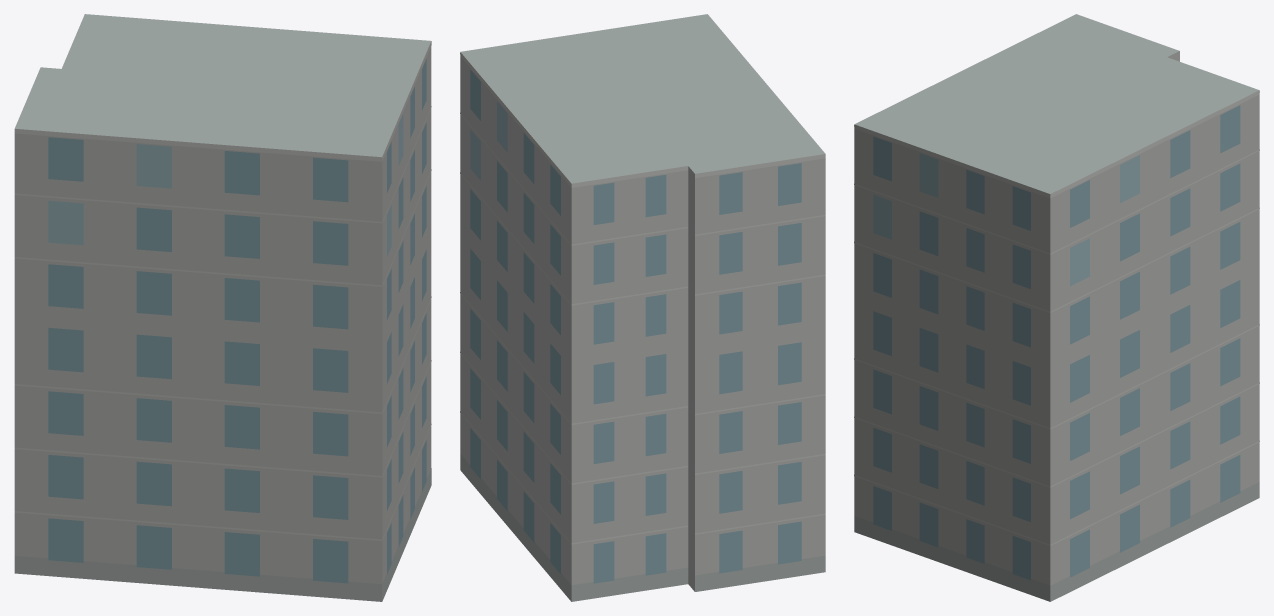
The model's file is survey-upis-32777390.glb.
3 renders of one model, left to right at view 1: azimuth 30°, elevation 25°; view 2: azimuth 150°, elevation 25°; view 3: azimuth 270°, elevation 25°, orthographic. The views are drawn at different scales.
Parts seen in each view (by area): view 1: survey-upis-32777390.tmp; view 2: survey-upis-32777390.tmp; view 3: survey-upis-32777390.tmp.
Part boxes in pixels (left/top/right/bottom): survey-upis-32777390.tmp: left=14, top=14, right=431, bottom=601; survey-upis-32777390.tmp: left=460, top=14, right=825, bottom=601; survey-upis-32777390.tmp: left=854, top=14, right=1259, bottom=601.
Size of the model in its own units: 22.04 by 23.24 by 20.96.
